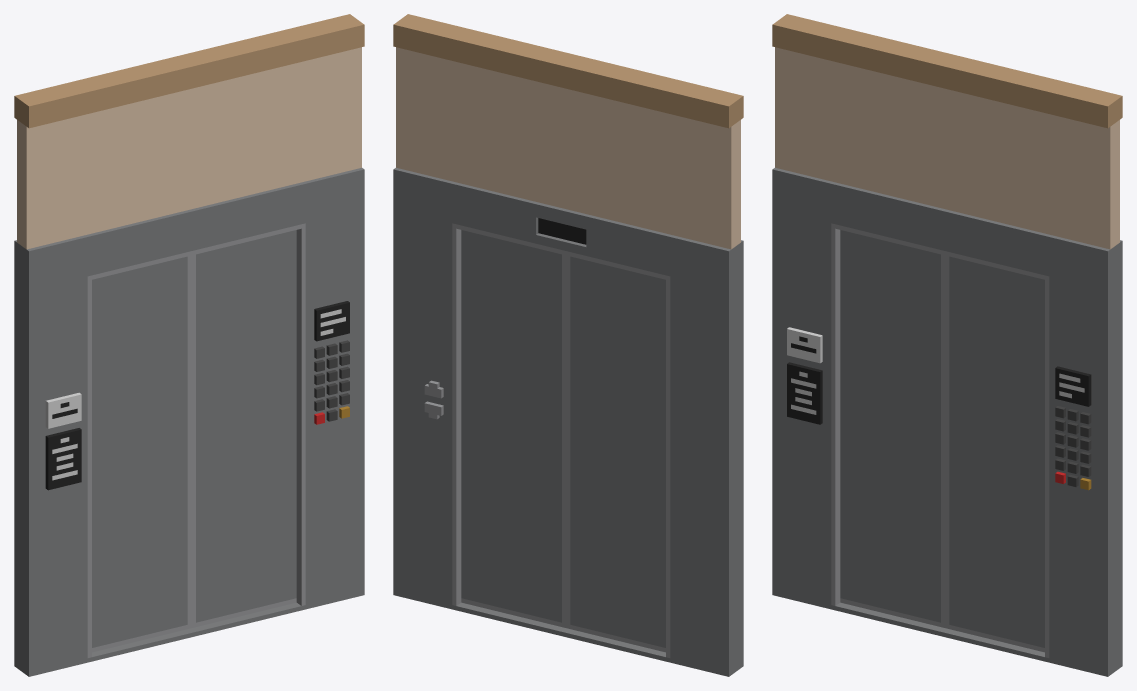
File: wall_02_M_elevator.glb
3 views of the same model, side by side, from view 1: azimuth 30°, elevation 25°; view 2: azimuth 150°, elevation 25°; view 3: azimuth 330°, elevation 25° (orthographic).
Parts seen in each view (by area): view 1: Untitled.002, Untitled, Untitled.001; view 2: Untitled.002, Untitled, Untitled.001; view 3: Untitled.002, Untitled.001, Untitled.
Part boxes in pixels (<box>): Untitled.002: <box>14,14,364,676</box>; Untitled: <box>192,230,296,627</box>; Untitled.001: <box>92,255,191,652</box>; Untitled.002: <box>393,14,743,676</box>; Untitled: <box>461,230,565,627</box>; Untitled.001: <box>566,255,665,652</box>; Untitled.002: <box>772,14,1122,676</box>; Untitled.001: <box>840,230,944,627</box>; Untitled: <box>945,255,1044,652</box>.
Size of the model in its own units: 2.4 by 3.9 by 0.24.
Materials: 3 (3 with a texture image).
